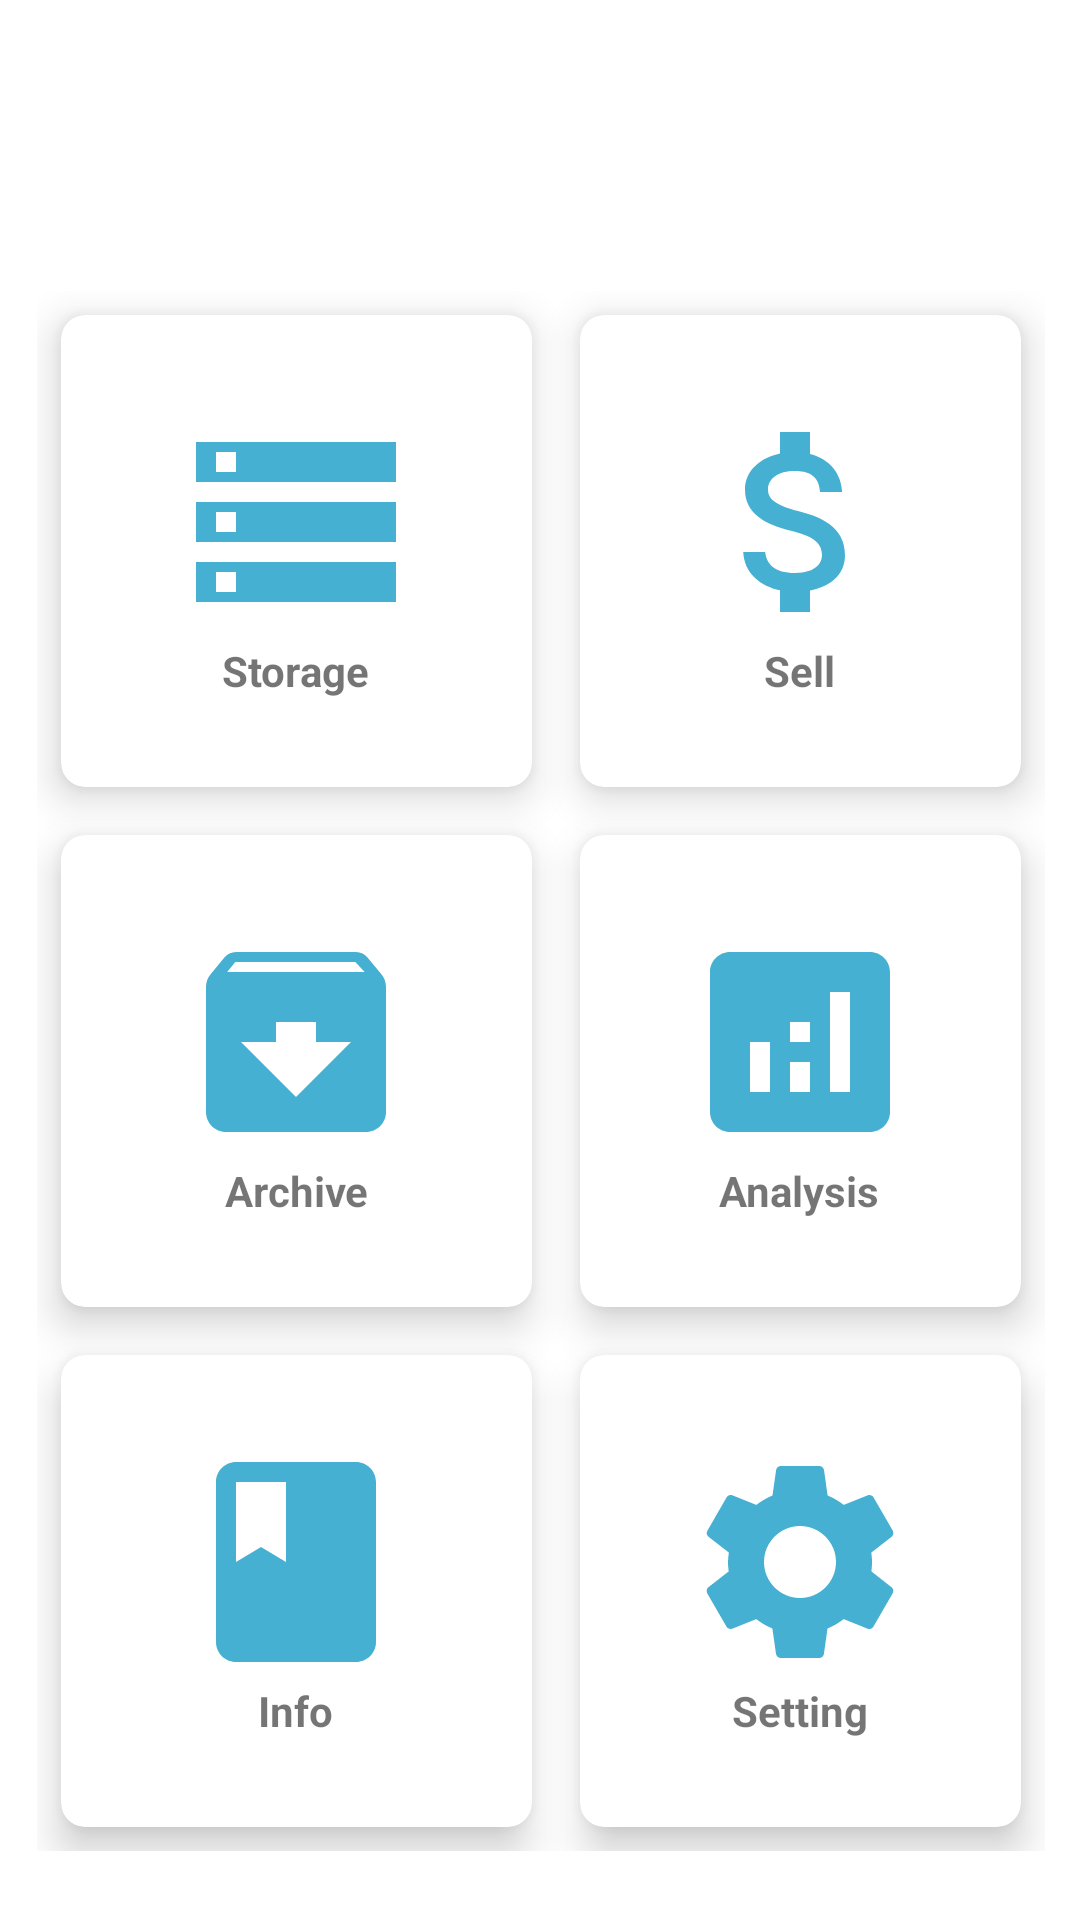

Where to tap for icons on this 1080x1920 app screen, as (x=x, y=y):
attach money: (x=794, y=522)
book: (x=296, y=1562)
